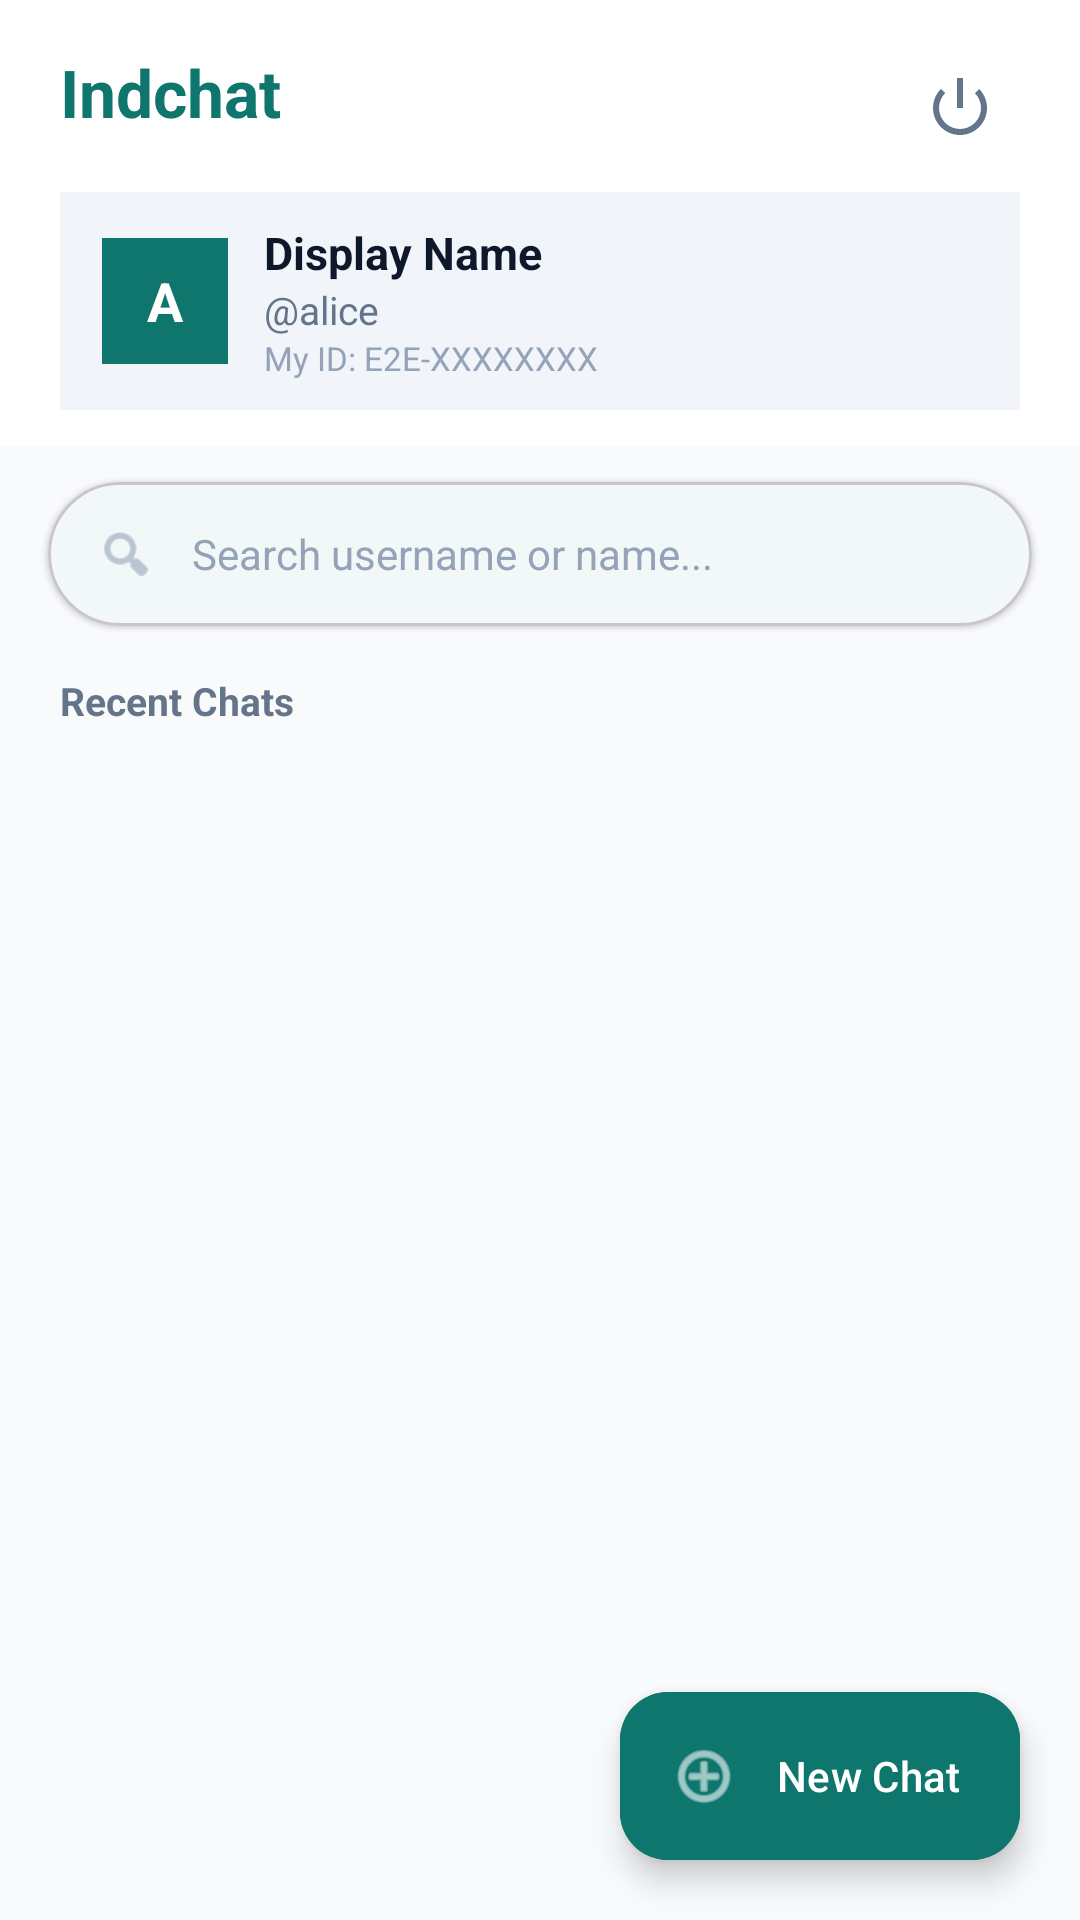

Where to tap for icons on this 1080px×1920px app screen, as [x,y]:
Log Out: [960,106]
